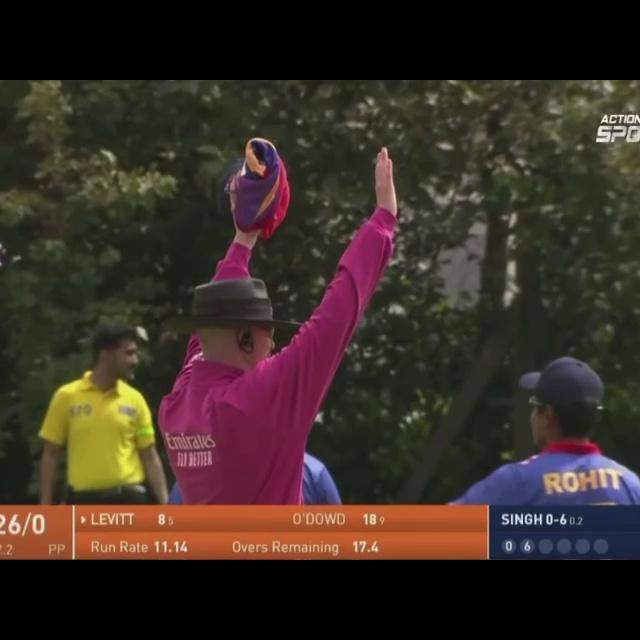umpire: (73, 110, 454, 481)
